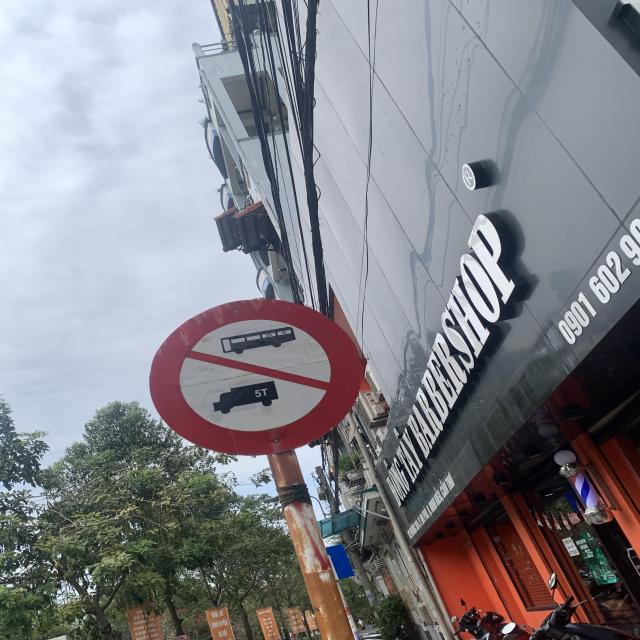Cam_XeTai_XeKhach: (150, 300, 366, 456)
